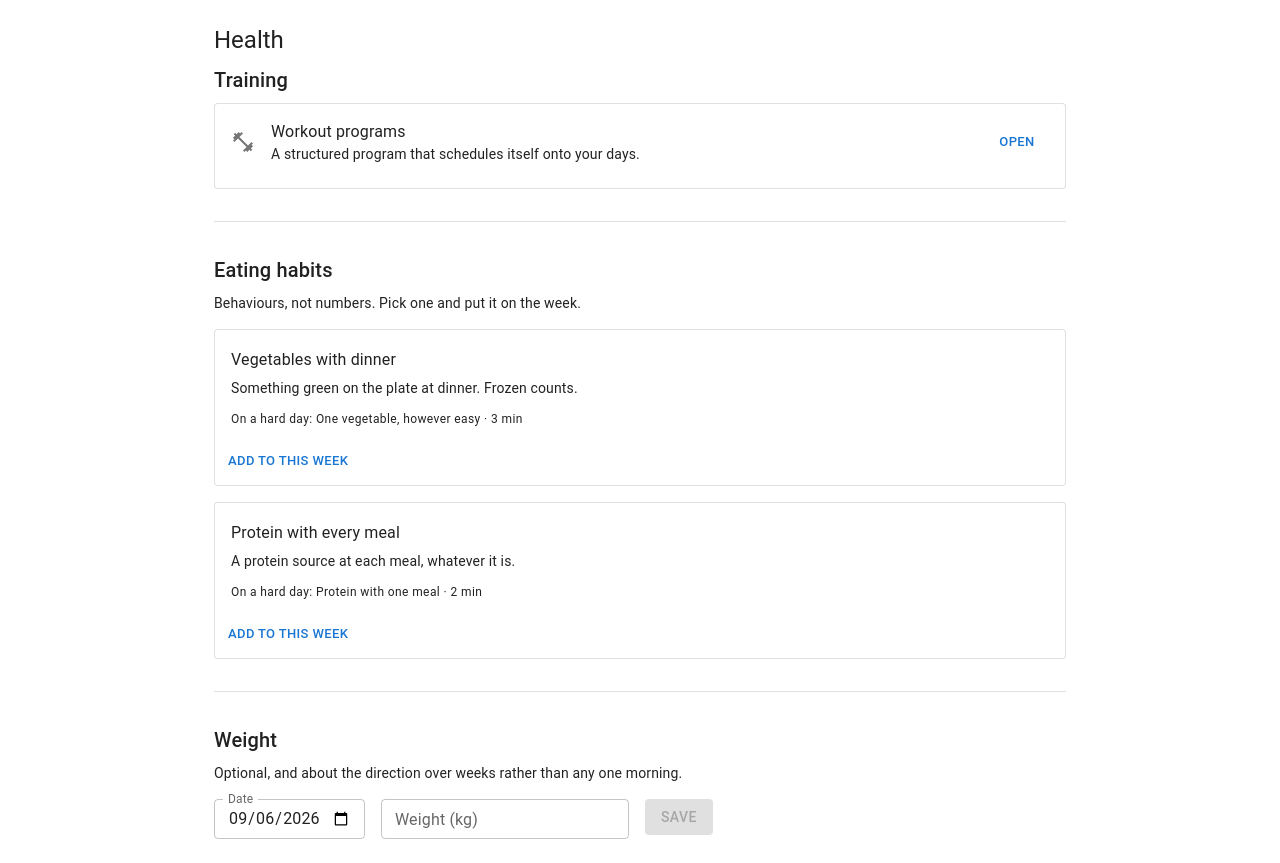
Scenario: HealthPage › puts a habit on the week
Click the button "Add to this week" below "One vegetable, however easy".
click(288, 462)  # box [223,446,353,477]
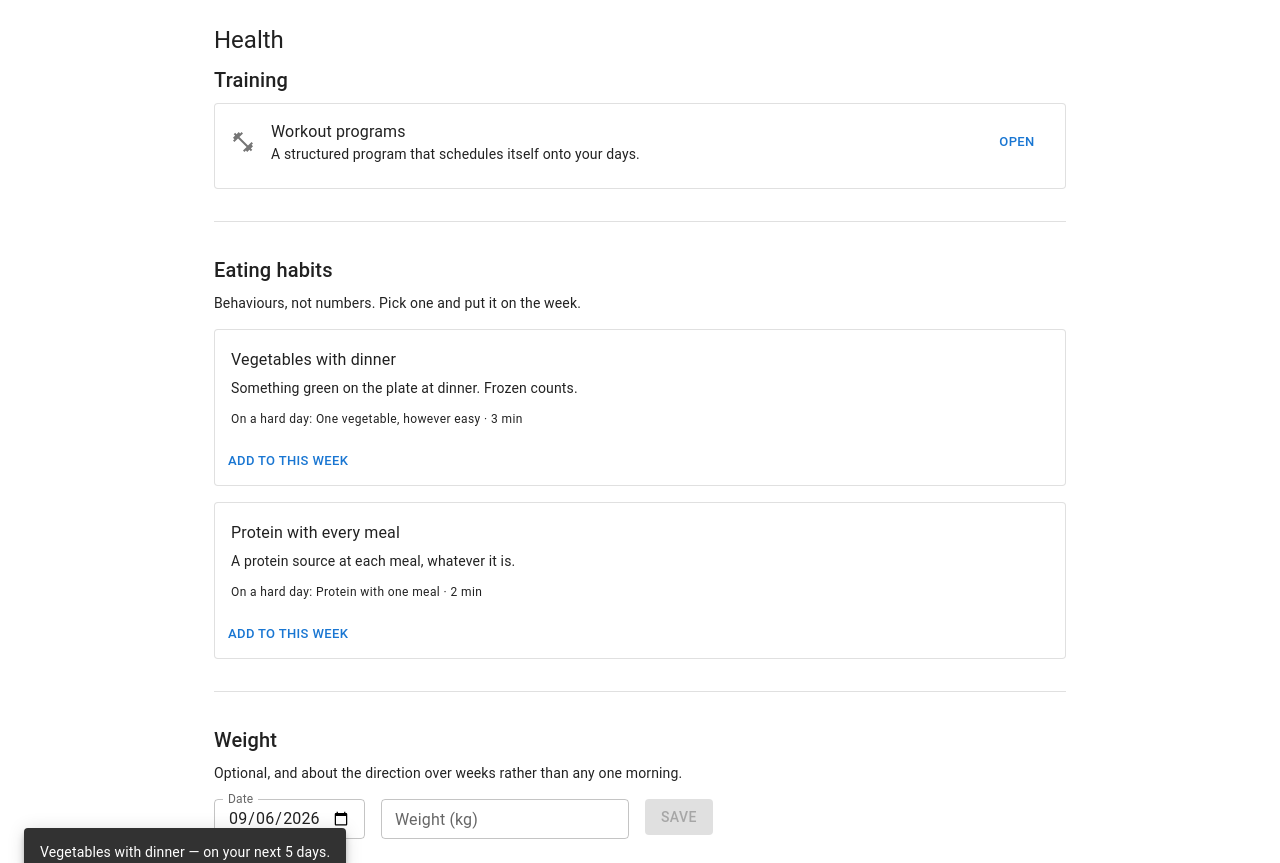
Result: the text "Vegetables with dinner — on your next 5 days." is shown at [40,844,330,860]
